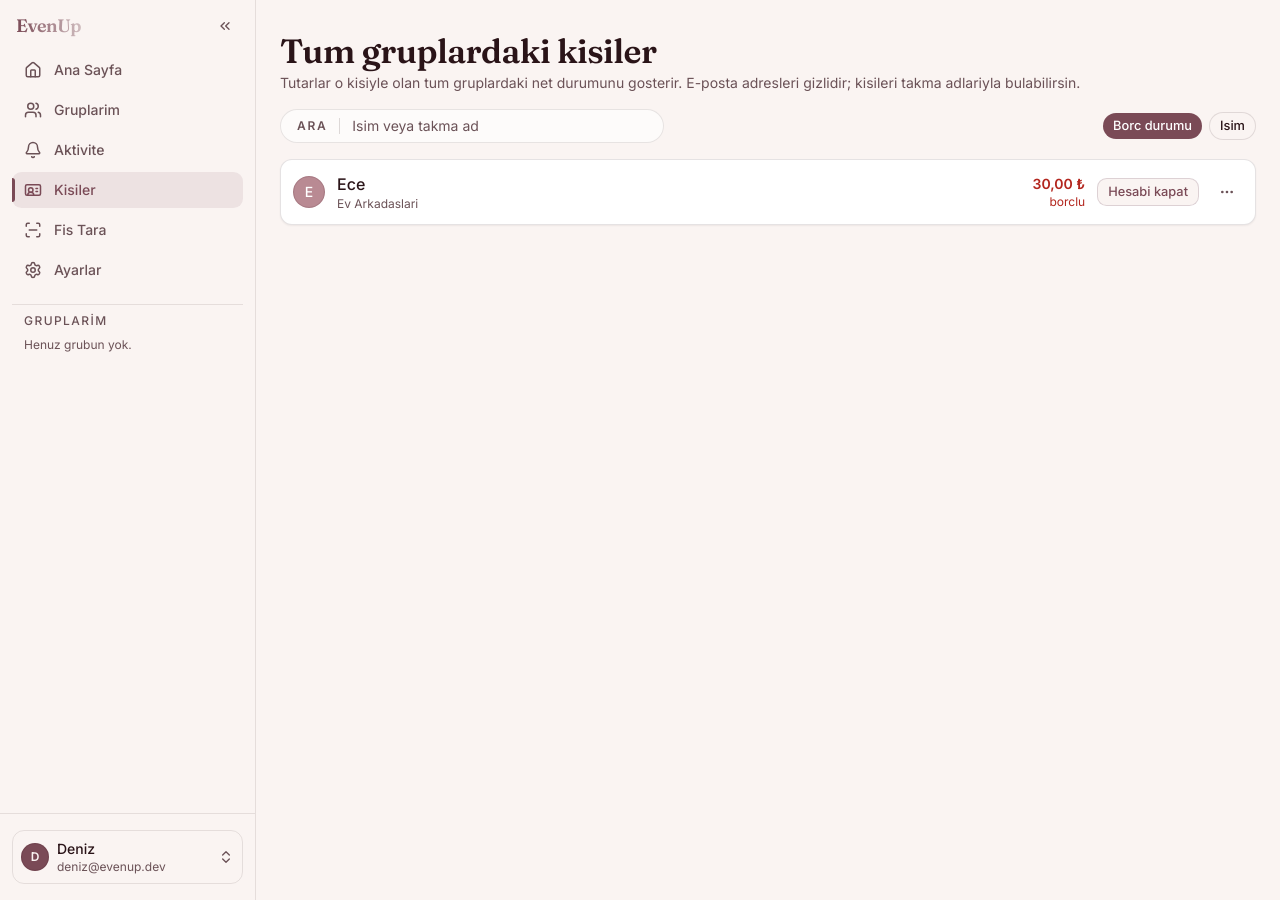
Test: hesabi kapat › borcluysam onaylayinca dogru grup+tutarla odeme olusturur
Expected: the text "Ece" is shown, [337, 172, 365, 196]
Click the button "Hesabi kapat": (1148, 192) [1097, 178, 1199, 206]
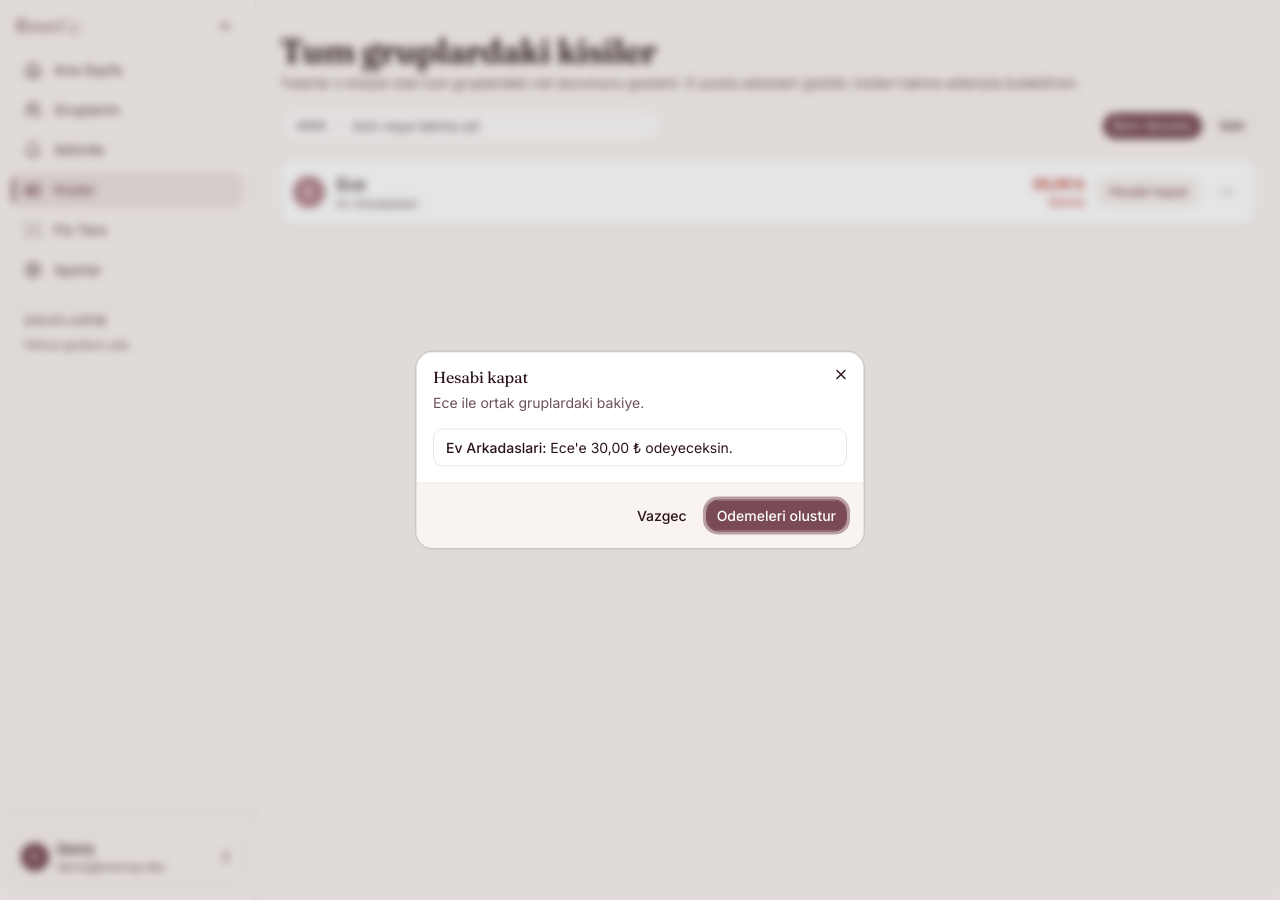
Expected: the dialog is shown, [416, 352, 864, 548]
Click the button "Odemeleri olustur": (776, 516) [706, 500, 847, 532]
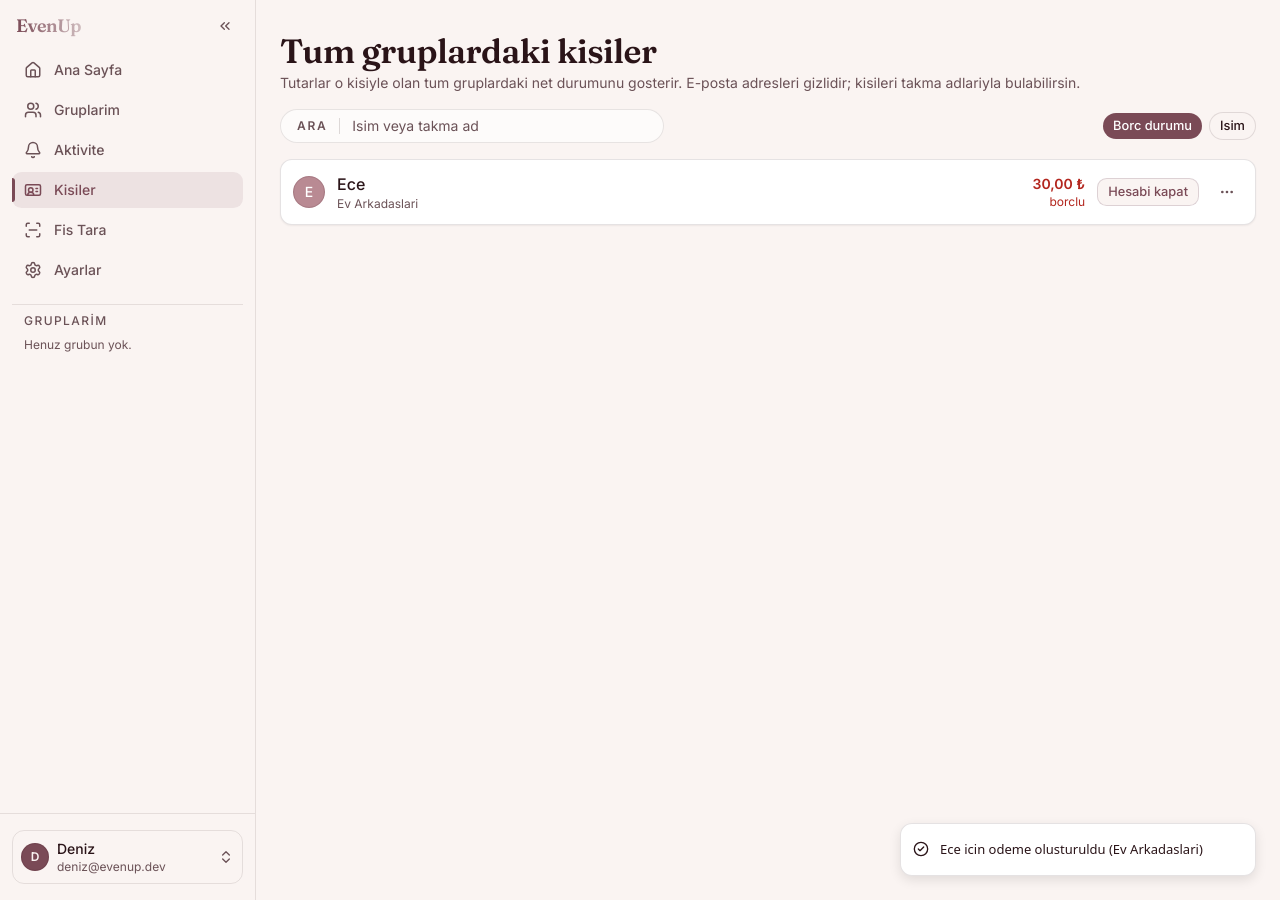
Expected: the dialog is gone
